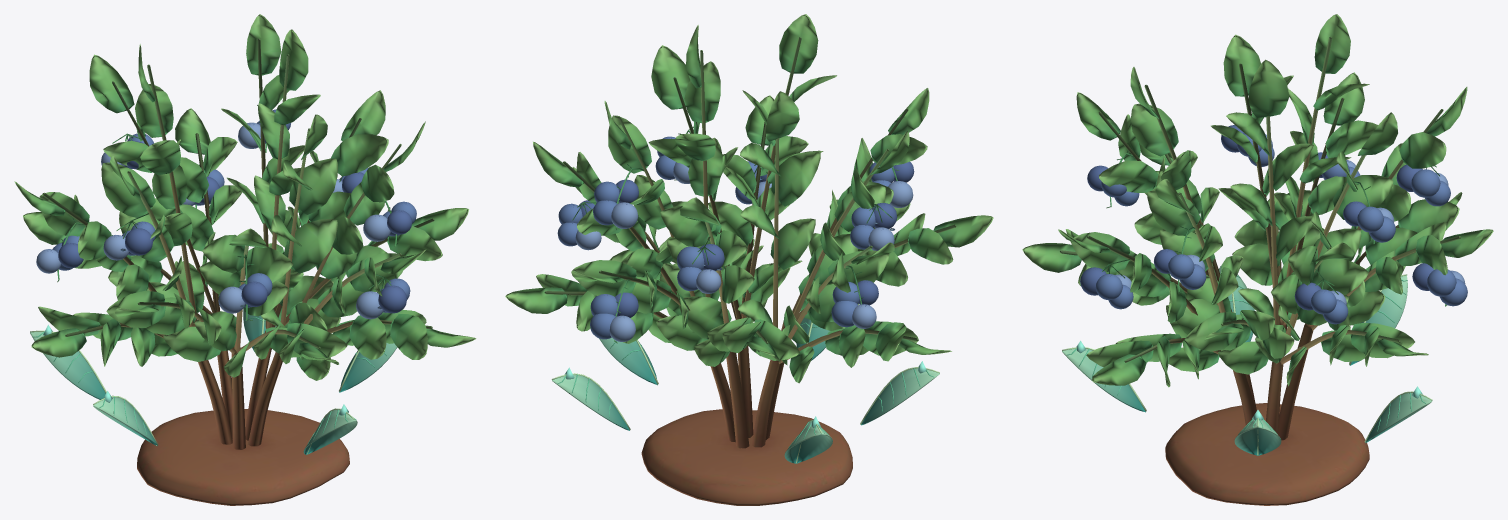
File: enchanted-blueberry.glb
3 renders of one model, left to right at view 1: azimuth 30°, elevation 25°; view 2: azimuth 150°, elevation 25°; view 3: azimuth 270°, elevation 25°, orthographic.
Visible parts, largest first — view 1: blueberry, enchanted-blueberry-sculpted-details; view 2: blueberry, enchanted-blueberry-sculpted-details; view 3: blueberry, enchanted-blueberry-sculpted-details.
Boxes of the visible parts, bbox=[...] form: blueberry: bbox=[14, 14, 476, 505]; enchanted-blueberry-sculpted-details: bbox=[30, 308, 411, 454]; blueberry: bbox=[505, 14, 993, 505]; enchanted-blueberry-sculpted-details: bbox=[551, 317, 939, 463]; blueberry: bbox=[1022, 14, 1493, 505]; enchanted-blueberry-sculpted-details: bbox=[1062, 265, 1432, 455].
Size of the model in its own units: 1.01 by 1 by 1.01.
5 materials, 1 textured.
